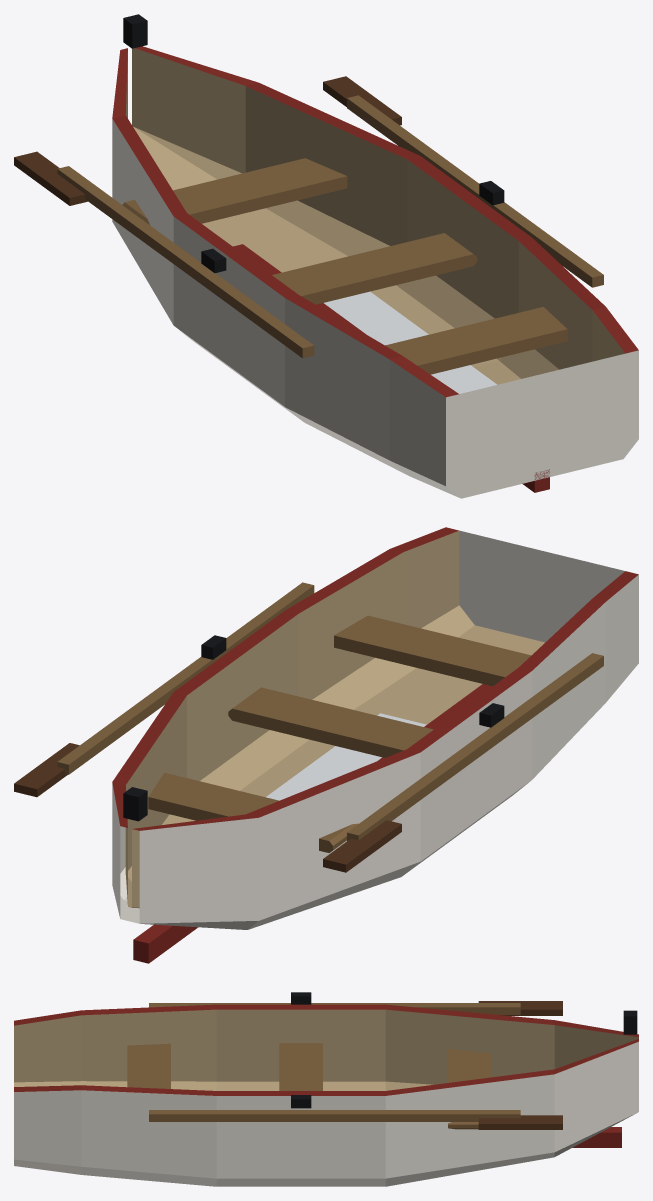
Rendered from boat.glb.
The picture shows the model from 3 angles, top to bottom: view 1: azimuth 30°, elevation 25°; view 2: azimuth 150°, elevation 25°; view 3: azimuth 270°, elevation 25°; orthographic projection. The views are drawn at different scales.
Parts seen in each view (by area): view 1: body.016; view 2: body.016; view 3: body.016.
Part boxes in pixels (bbox=[...]): body.016: bbox=[14, 14, 638, 498]; body.016: bbox=[14, 527, 638, 963]; body.016: bbox=[14, 992, 638, 1186].
Bounding box in the file's own units: 1.72 × 0.88 × 3.7.
